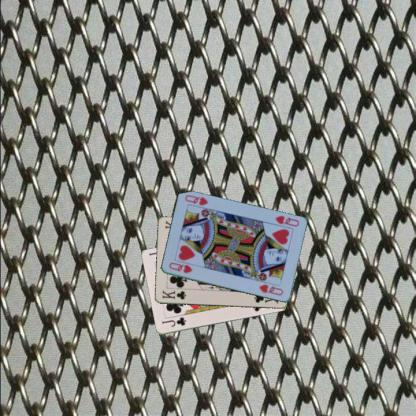Jc: (160, 314, 187, 328)
Kc: (160, 288, 187, 301)
Qh: (271, 212, 300, 228), (166, 260, 193, 274)
